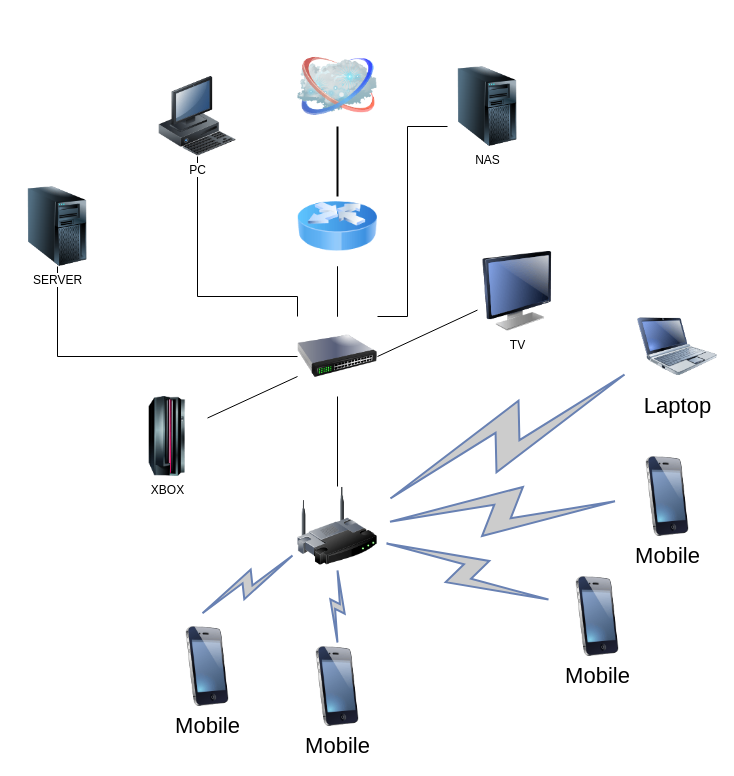
This 734x776 diagram has some shape labels left out. Here are the shapes that lost their labels. From the top down, the centre of each, then its label:
At [337,86]: "Internet".
At [337,356]: "SWITCH".
At [337,526]: "WIFI".
